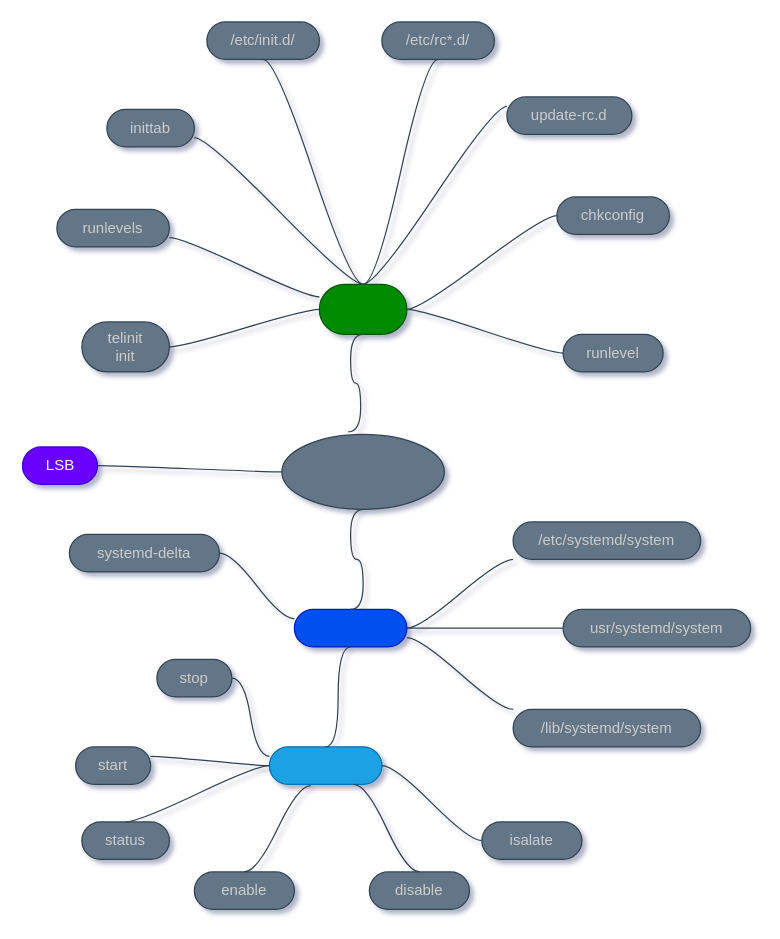
This 780x939 diagram has some shape labels left out. The shapes that lost their labels are listed below. From the top down, each one's centre as x and y in pixels, then its label:
the point at 362,308: SysV Init
the point at 362,471: Topic 202.1
the point at 350,627: systemd
the point at 325,765: systemctl
